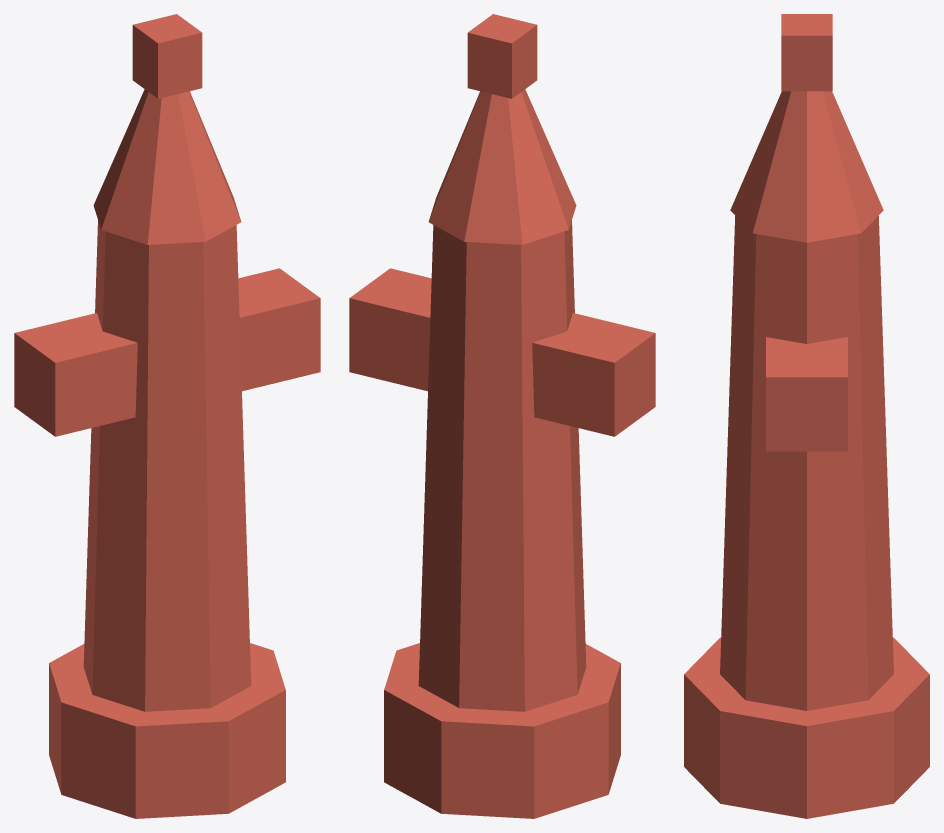
The model's file is hydrant.glb.
3 views of the same model, side by side, from view 1: azimuth 30°, elevation 25°; view 2: azimuth 150°, elevation 25°; view 3: azimuth 270°, elevation 25° (orthographic).
Parts seen in each view (by area): view 1: hydrant; view 2: hydrant; view 3: hydrant.
Boxes of the visible parts, left/top/right/bottom form: hydrant: left=14, top=14, right=320, bottom=818; hydrant: left=349, top=14, right=655, bottom=818; hydrant: left=684, top=14, right=929, bottom=818.
Bounding box in the file's own units: 0.3 × 0.8 × 0.24.
